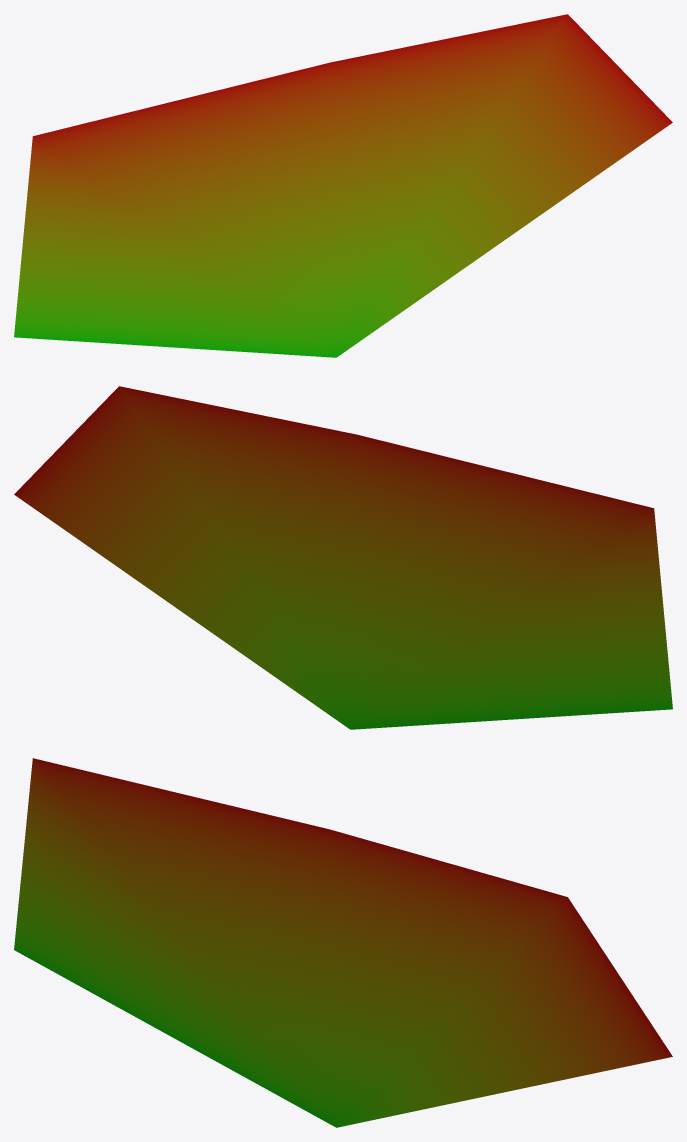
File: Alpine Bearberry_LOD5_Var12_xb0gdazqx.fbx
3 renders of one model, top to bottom at view 1: azimuth 30°, elevation 25°; view 2: azimuth 150°, elevation 25°; view 3: azimuth 330°, elevation 25°, orthographic.
Parts seen in each view (by area): view 1: _ggtd_Var12_LOD5; view 2: _ggtd_Var12_LOD5; view 3: _ggtd_Var12_LOD5.
Part boxes in pixels (x1,y1,x2,y2): _ggtd_Var12_LOD5: (14,14,672,357); _ggtd_Var12_LOD5: (14,386,672,729); _ggtd_Var12_LOD5: (14,758,672,1127).
Bounding box in the file's own units: 33.94 × 14.61 × 0.
